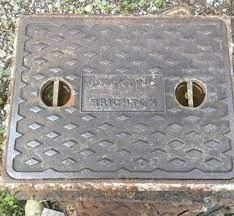closed manhole-not overflowing-: (18, 10, 234, 184)
